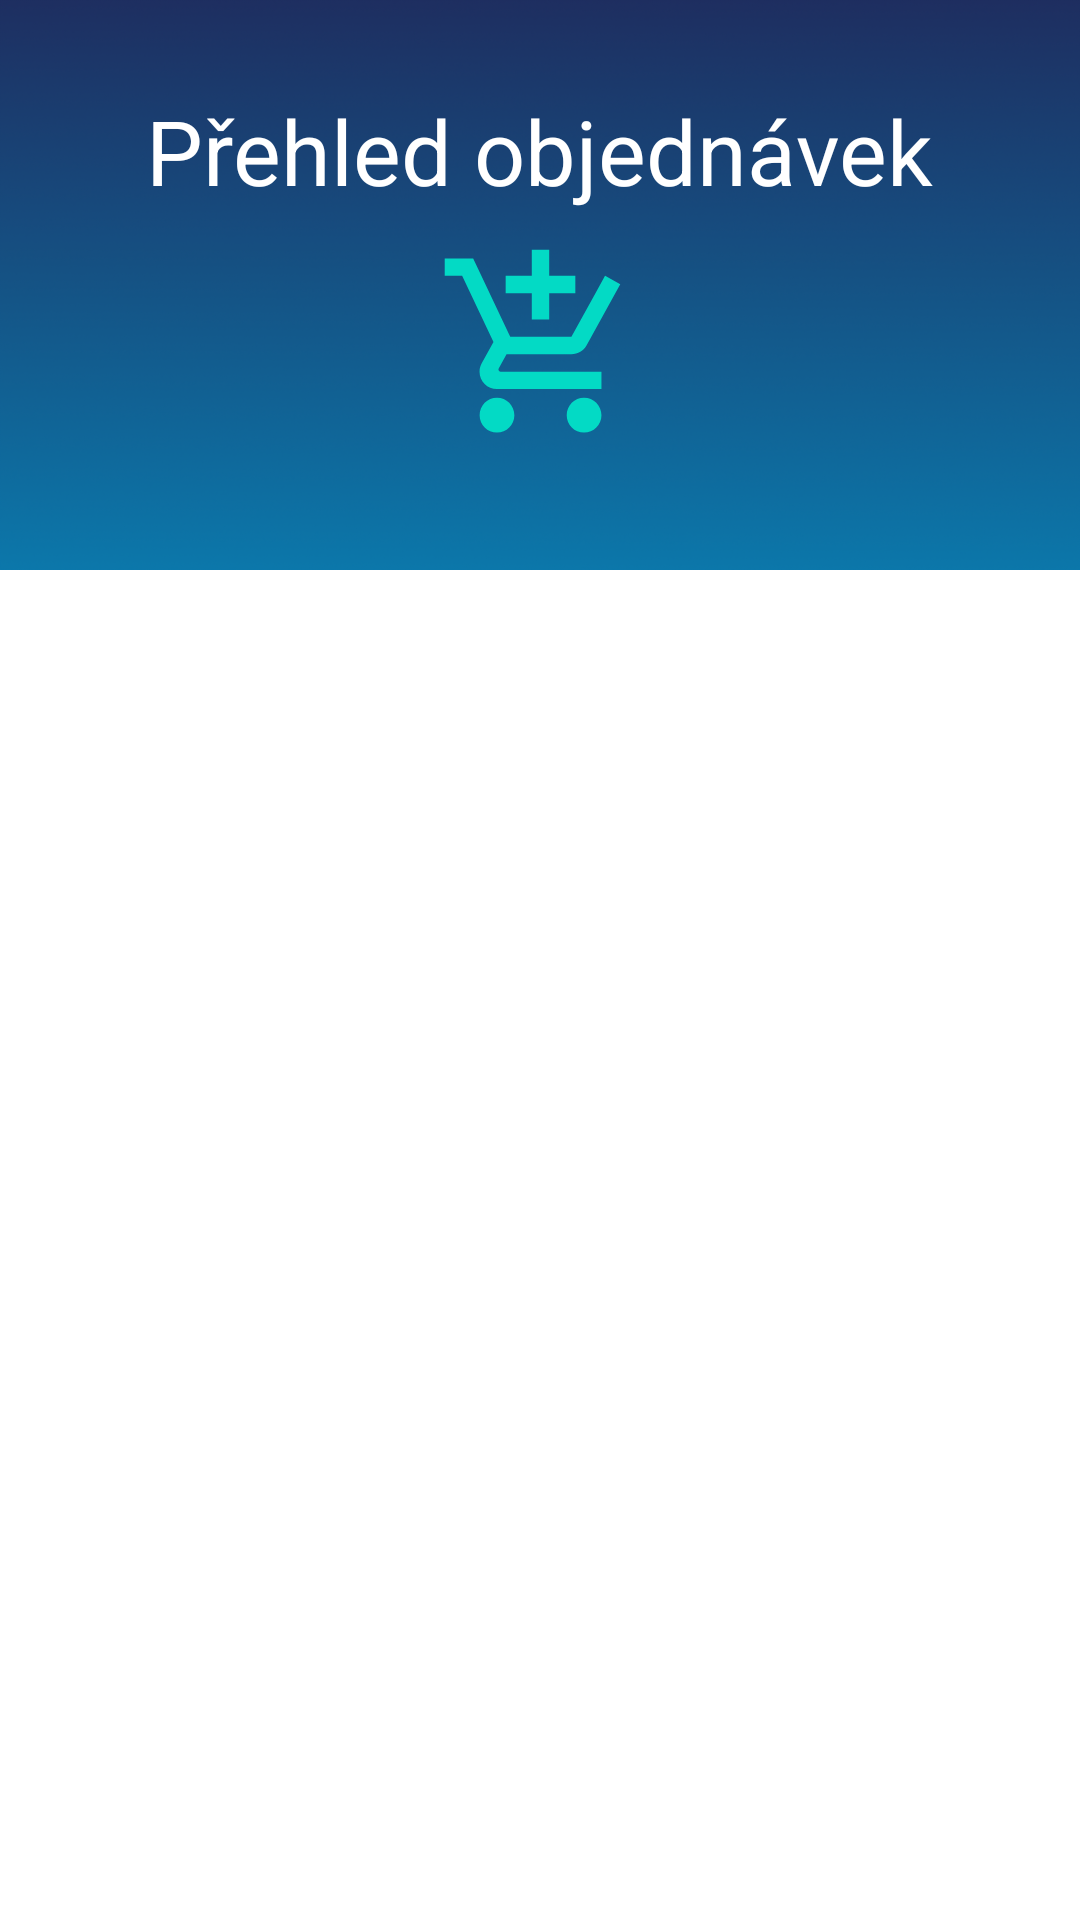

Icons on this 1080w x 1920h Android screen, each with the point to tap as point (x, y):
create order: point (540, 337)
